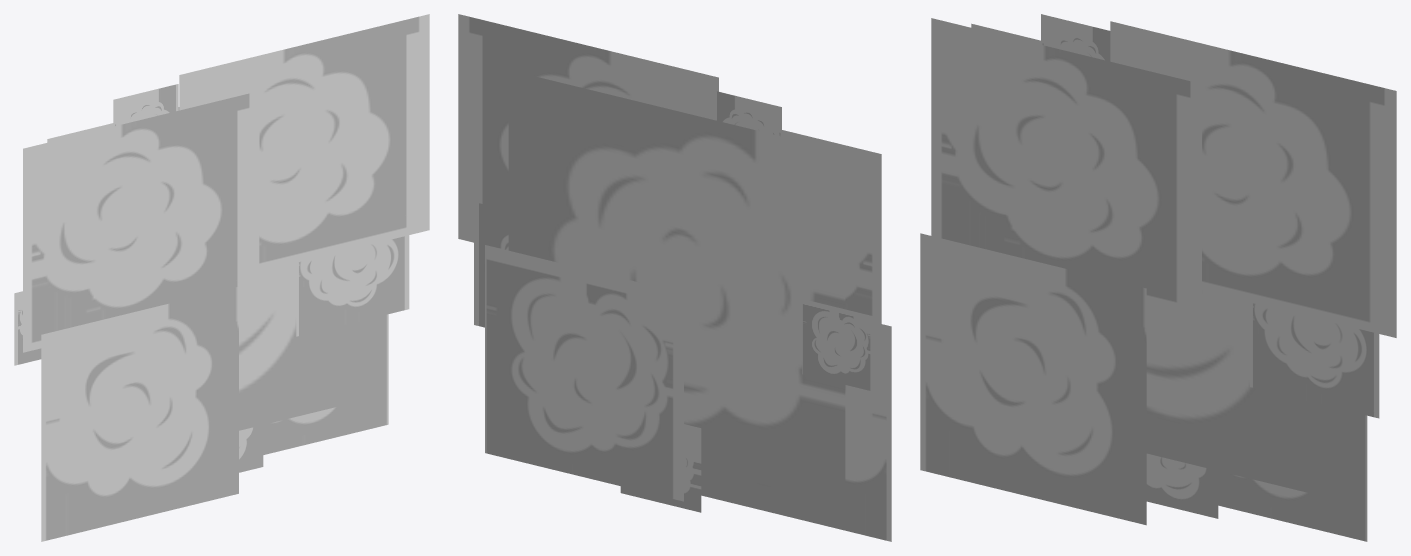
Rendered from puff_box.glb.
The picture shows the model from 3 angles, left to right: view 1: azimuth 30°, elevation 25°; view 2: azimuth 150°, elevation 25°; view 3: azimuth 330°, elevation 25°; orthographic projection. The views are drawn at different scales.
Parts seen in each view (by area): view 1: puff5_1, puff1, puff5, puff3_1, puff4, puff2_1, puff4_1, puff3, puff2; view 2: puff3_1, puff2_1, puff5, puff1, puff5_1, puff2, puff4, puff4_1, puff3; view 3: puff5_1, puff1, puff5, puff3_1, puff4, puff2_1, puff3, puff4_1.
Boxes of the visible parts, x1,y1,x2,y2 form: puff5_1: [23, 91, 259, 352]; puff1: [41, 286, 238, 541]; puff5: [179, 14, 429, 271]; puff3_1: [47, 107, 370, 430]; puff4: [296, 235, 409, 336]; puff2_1: [263, 314, 388, 454]; puff4_1: [113, 84, 178, 126]; puff3: [239, 425, 263, 472]; puff2: [14, 291, 41, 365]; puff3_1: [508, 70, 845, 503]; puff2_1: [485, 245, 683, 501]; puff5: [458, 14, 718, 242]; puff1: [701, 324, 891, 541]; puff5_1: [782, 130, 881, 366]; puff2: [802, 299, 874, 391]; puff4: [474, 202, 508, 327]; puff4_1: [714, 90, 781, 136]; puff3: [620, 424, 701, 512]; puff5_1: [931, 18, 1201, 317]; puff1: [920, 233, 1146, 525]; puff5: [1110, 21, 1396, 337]; puff3_1: [971, 23, 1341, 500]; puff4: [1250, 302, 1379, 418]; puff2_1: [1218, 409, 1367, 541]; puff3: [1146, 453, 1218, 518]; puff4_1: [1041, 14, 1110, 61].
Bounding box in the file's own units: 90.43 × 88.92 × 8.37.
Materials: 1 (1 with a texture image).
